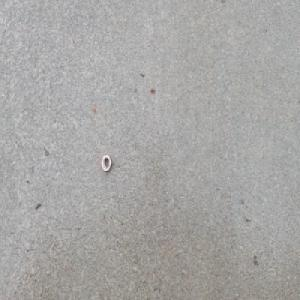Nut: (100, 154, 112, 172)
